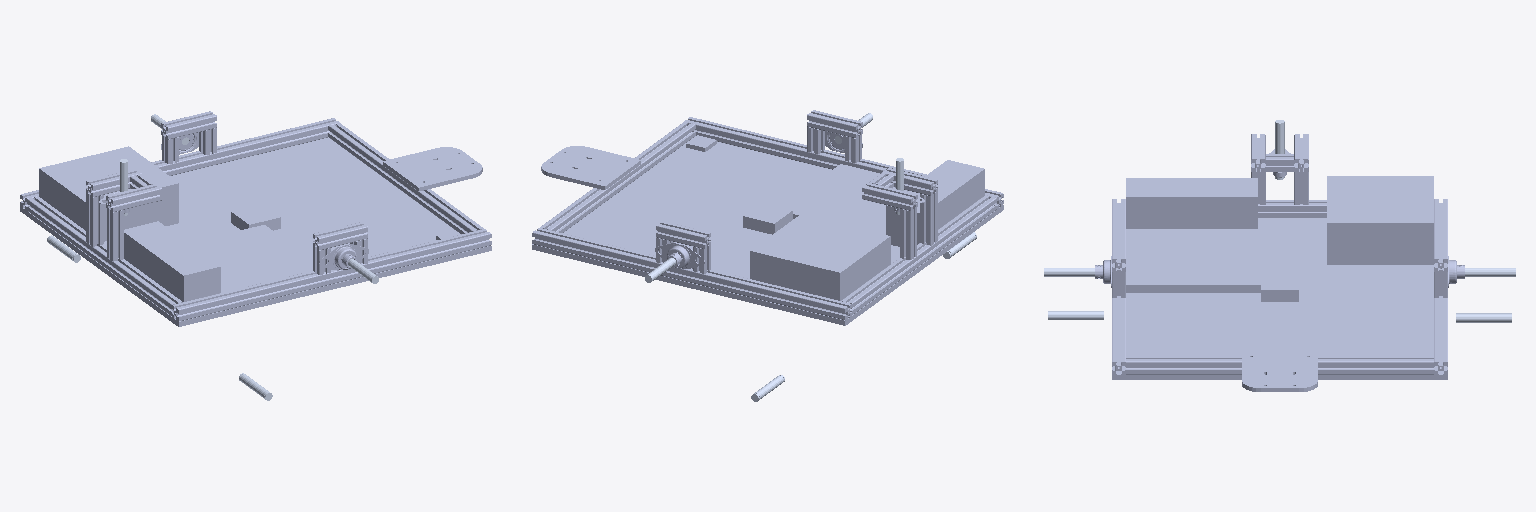
robot.urdf — UpdatedMiniRover2:
<?xml version="1.0" encoding="utf-8"?>
<!-- This URDF was automatically created by SolidWorks to URDF Exporter! Originally created by Stephen Brawner (brawner@gmail.com) 
     Commit Version: 1.6.0-4-g7f85cfe  Build Version: 1.6.7995.38578
     For more information, please see http://wiki.ros.org/sw_urdf_exporter -->
<robot
  name="UpdatedMiniRover2">
  <link
    name="base_link">
    <inertial>
      <origin
        xyz="-0.052189 0.0067678 0.012927"
        rpy="0 0 0" />
      <mass
        value="2.9852" />
      <inertia
        ixx="0.014337"
        ixy="-1.1922E-08"
        ixz="7.3459E-09"
        iyy="0.019036"
        iyz="-4.2142E-09"
        izz="0.032935" />
    </inertial>
    <visual>
      <origin
        xyz="0 0 0"
        rpy="0 0 0" />
      <geometry>
        <mesh
          filename="package://UpdatedMiniRover2/meshes/base_link.STL" />
      </geometry>
      <material
        name="">
        <color
          rgba="0.79216 0.81961 0.93333 1" />
      </material>
    </visual>
    <collision>
      <origin
        xyz="0 0 0"
        rpy="0 0 0" />
      <geometry>
        <mesh
          filename="package://UpdatedMiniRover2/meshes/base_link.STL" />
      </geometry>
    </collision>
  </link>
  <link
    name="RockerL_Link">
    <inertial>
      <origin
        xyz="8.0491E-16 -0.035 3.6082E-16"
        rpy="0 0 0" />
      <mass
        value="0.013467" />
      <inertia
        ixx="5.5755E-06"
        ixy="1.9214E-21"
        ixz="4.4668E-24"
        iyy="1.5273E-07"
        iyz="-3.7068E-21"
        izz="5.5755E-06" />
    </inertial>
    <visual>
      <origin
        xyz="0 0 0"
        rpy="0 0 0" />
      <geometry>
        <mesh
          filename="package://UpdatedMiniRover2/meshes/RockerL_Link.STL" />
      </geometry>
      <material
        name="">
        <color
          rgba="0.86667 0.9098 1 1" />
      </material>
    </visual>
    <collision>
      <origin
        xyz="0 0 0"
        rpy="0 0 0" />
      <geometry>
        <mesh
          filename="package://UpdatedMiniRover2/meshes/RockerL_Link.STL" />
      </geometry>
    </collision>
  </link>
  <joint
    name="RockerL_joint"
    type="revolute">
    <origin
      xyz="0.011312 -0.175 0.03"
      rpy="0 0 0" />
    <parent
      link="base_link" />
    <child
      link="RockerL_Link" />
    <axis
      xyz="0 -1 0" />
    <limit
      lower="0"
      upper="0"
      effort="0"
      velocity="0" />
  </joint>
  <link
    name="WFL_Link">
    <inertial>
      <origin
        xyz="-0.00030469 -0.0076992 9.7097E-05"
        rpy="0 0 0" />
      <mass
        value="0.33748" />
      <inertia
        ixx="0.00036362"
        ixy="-3.7017E-08"
        ixz="5.5251E-08"
        iyy="0.00062163"
        iyz="-1.0625E-07"
        izz="0.00036387" />
    </inertial>
    <visual>
      <origin
        xyz="0 0 0"
        rpy="0 0 0" />
      <geometry>
        <mesh
          filename="package://UpdatedMiniRover2/meshes/WFL_Link.STL" />
      </geometry>
      <material
        name="">
        <color
          rgba="0.75294 0.75294 0.75294 1" />
      </material>
    </visual>
    <collision>
      <origin
        xyz="0 0 0"
        rpy="0 0 0" />
      <geometry>
        <mesh
          filename="package://UpdatedMiniRover2/meshes/WFL_Link.STL" />
      </geometry>
    </collision>
  </link>
  <joint
    name="WFL_joint"
    type="continuous">
    <origin
      xyz="0.255 -0.071514 -0.19732"
      rpy="0 0 0" />
    <parent
      link="RockerL_Link" />
    <child
      link="WFL_Link" />
    <axis
      xyz="0 1 0" />
  </joint>
  <link
    name="BogieL_Link">
    <inertial>
      <origin
        xyz="0 -0.029525 -1.3878E-17"
        rpy="0 0 0" />
      <mass
        value="0.011327" />
      <inertia
        ixx="3.3403E-06"
        ixy="4.7535E-22"
        ixz="1.5966E-23"
        iyy="1.2812E-07"
        iyz="-8.5513E-22"
        izz="3.3403E-06" />
    </inertial>
    <visual>
      <origin
        xyz="0 0 0"
        rpy="0 0 0" />
      <geometry>
        <mesh
          filename="package://UpdatedMiniRover2/meshes/BogieL_Link.STL" />
      </geometry>
      <material
        name="">
        <color
          rgba="0.86667 0.9098 1 1" />
      </material>
    </visual>
    <collision>
      <origin
        xyz="0 0 0"
        rpy="0 0 0" />
      <geometry>
        <mesh
          filename="package://UpdatedMiniRover2/meshes/BogieL_Link.STL" />
      </geometry>
    </collision>
  </link>
  <joint
    name="BogieL_joint"
    type="revolute">
    <origin
      xyz="-0.13419 -0.007669 -0.11241"
      rpy="0 0 0" />
    <parent
      link="RockerL_Link" />
    <child
      link="BogieL_Link" />
    <axis
      xyz="0 -1 0" />
    <limit
      lower="0"
      upper="0"
      effort="0"
      velocity="0" />
  </joint>
  <link
    name="WML_Link">
    <inertial>
      <origin
        xyz="-0.000263057971062963 -0.00769918748460646 0.000188444317564401"
        rpy="0 0 0" />
      <mass
        value="0.33748168721985" />
      <inertia
        ixx="0.000363677647586356"
        ixy="6.67990896952481E-08"
        ixz="1.14854473653684E-07"
        iyy="0.000621631626714055"
        iyz="9.05417702952652E-08"
        izz="0.000363814398215361" />
    </inertial>
    <visual>
      <origin
        xyz="0 0 0"
        rpy="0 0 0" />
      <geometry>
        <mesh
          filename="package://UpdatedMiniRover2/meshes/WML_Link.STL" />
      </geometry>
      <material
        name="">
        <color
          rgba="0.752941176470588 0.752941176470588 0.752941176470588 1" />
      </material>
    </visual>
    <collision>
      <origin
        xyz="0 0 0"
        rpy="0 0 0" />
      <geometry>
        <mesh
          filename="package://UpdatedMiniRover2/meshes/WML_Link.STL" />
      </geometry>
    </collision>
  </link>
  <joint
    name="WML_joint"
    type="continuous">
    <origin
      xyz="0.12452 -0.063845 -0.086756"
      rpy="0 0 0" />
    <parent
      link="BogieL_Link" />
    <child
      link="WML_Link" />
    <axis
      xyz="0 1 0" />
  </joint>
  <link
    name="WBL_Link">
    <inertial>
      <origin
        xyz="-0.00030005 -0.0076992 0.00011063"
        rpy="0 0 0" />
      <mass
        value="0.33748" />
      <inertia
        ixx="0.00036363"
        ixy="-4.1733E-08"
        ixz="6.604E-08"
        iyy="0.00062163"
        iyz="-1.0449E-07"
        izz="0.00036386" />
    </inertial>
    <visual>
      <origin
        xyz="0 0 0"
        rpy="0 0 0" />
      <geometry>
        <mesh
          filename="package://UpdatedMiniRover2/meshes/WBL_Link.STL" />
      </geometry>
      <material
        name="">
        <color
          rgba="0.75294 0.75294 0.75294 1" />
      </material>
    </visual>
    <collision>
      <origin
        xyz="0 0 0"
        rpy="0 0 0" />
      <geometry>
        <mesh
          filename="package://UpdatedMiniRover2/meshes/WBL_Link.STL" />
      </geometry>
    </collision>
  </link>
  <joint
    name="WBL_joint"
    type="continuous">
    <origin
      xyz="-0.13481 -0.063845 -0.068524"
      rpy="0 0 0" />
    <parent
      link="BogieL_Link" />
    <child
      link="WBL_Link" />
    <axis
      xyz="0 1 0" />
  </joint>
  <link
    name="RockerR_Link">
    <inertial>
      <origin
        xyz="-2.7756E-17 0.035 2.0817E-17"
        rpy="0 0 0" />
      <mass
        value="0.013467" />
      <inertia
        ixx="5.5755E-06"
        ixy="2.4389E-21"
        ixz="1.2098E-24"
        iyy="1.5273E-07"
        iyz="-3.2826E-21"
        izz="5.5755E-06" />
    </inertial>
    <visual>
      <origin
        xyz="0 0 0"
        rpy="0 0 0" />
      <geometry>
        <mesh
          filename="package://UpdatedMiniRover2/meshes/RockerR_Link.STL" />
      </geometry>
      <material
        name="">
        <color
          rgba="0.86667 0.9098 1 1" />
      </material>
    </visual>
    <collision>
      <origin
        xyz="0 0 0"
        rpy="0 0 0" />
      <geometry>
        <mesh
          filename="package://UpdatedMiniRover2/meshes/RockerR_Link.STL" />
      </geometry>
    </collision>
  </link>
  <joint
    name="RockerR_joint"
    type="revolute">
    <origin
      xyz="0.011312 0.175 0.03"
      rpy="0 0 0" />
    <parent
      link="base_link" />
    <child
      link="RockerR_Link" />
    <axis
      xyz="0 1 0" />
    <limit
      lower="0"
      upper="0"
      effort="0"
      velocity="0" />
  </joint>
  <link
    name="WFR_Link">
    <inertial>
      <origin
        xyz="-0.000253671161038277 0.00769918748460585 0.000200902212580817"
        rpy="0 0 0" />
      <mass
        value="0.337481687219786" />
      <inertia
        ixx="0.000363743120576253"
        ixy="6.86139099319741E-08"
        ixz="1.33634988904462E-07"
        iyy="0.000621631626714009"
        iyz="8.91743343913024E-08"
        izz="0.000363748925225399" />
    </inertial>
    <visual>
      <origin
        xyz="0 0 0"
        rpy="0 0 0" />
      <geometry>
        <mesh
          filename="package://UpdatedMiniRover2/meshes/WFR_Link.STL" />
      </geometry>
      <material
        name="">
        <color
          rgba="0.752941176470588 0.752941176470588 0.752941176470588 1" />
      </material>
    </visual>
    <collision>
      <origin
        xyz="0 0 0"
        rpy="0 0 0" />
      <geometry>
        <mesh
          filename="package://UpdatedMiniRover2/meshes/WFR_Link.STL" />
      </geometry>
    </collision>
  </link>
  <joint
    name="WFR_joint"
    type="continuous">
    <origin
      xyz="0.2594 0.071514 -0.19154"
      rpy="0 0 0" />
    <parent
      link="RockerR_Link" />
    <child
      link="WFR_Link" />
    <axis
      xyz="0 -1 0" />
  </joint>
  <link
    name="BogieR_Link">
    <inertial>
      <origin
        xyz="0 0.029525 1.3878E-17"
        rpy="0 0 0" />
      <mass
        value="0.011327" />
      <inertia
        ixx="3.3403E-06"
        ixy="3.9948E-22"
        ixz="5.7125E-24"
        iyy="1.2812E-07"
        iyz="-1.5993E-21"
        izz="3.3403E-06" />
    </inertial>
    <visual>
      <origin
        xyz="0 0 0"
        rpy="0 0 0" />
      <geometry>
        <mesh
          filename="package://UpdatedMiniRover2/meshes/BogieR_Link.STL" />
      </geometry>
      <material
        name="">
        <color
          rgba="0.86667 0.9098 1 1" />
      </material>
    </visual>
    <collision>
      <origin
        xyz="0 0 0"
        rpy="0 0 0" />
      <geometry>
        <mesh
          filename="package://UpdatedMiniRover2/meshes/BogieR_Link.STL" />
      </geometry>
    </collision>
  </link>
  <joint
    name="BogieR_joint"
    type="revolute">
    <origin
      xyz="-0.13422 0.007669 -0.11529"
      rpy="0 0 0" />
    <parent
      link="RockerR_Link" />
    <child
      link="BogieR_Link" />
    <axis
      xyz="0 1 0" />
    <limit
      lower="0"
      upper="0"
      effort="0"
      velocity="0" />
  </joint>
  <link
    name="WMR_Link">
    <inertial>
      <origin
        xyz="0.00022398 0.0076992 0.00022826"
        rpy="0 0 0" />
      <mass
        value="0.33748" />
      <inertia
        ixx="0.00036372"
        ixy="-8.2389E-08"
        ixz="-1.3185E-07"
        iyy="0.00062163"
        iyz="7.6629E-08"
        izz="0.00036377" />
    </inertial>
    <visual>
      <origin
        xyz="0 0 0"
        rpy="0 0 0" />
      <geometry>
        <mesh
          filename="package://UpdatedMiniRover2/meshes/WMR_Link.STL" />
      </geometry>
      <material
        name="">
        <color
          rgba="0.75294 0.75294 0.75294 1" />
      </material>
    </visual>
    <collision>
      <origin
        xyz="0 0 0"
        rpy="0 0 0" />
      <geometry>
        <mesh
          filename="package://UpdatedMiniRover2/meshes/WMR_Link.STL" />
      </geometry>
    </collision>
  </link>
  <joint
    name="WMR_joint"
    type="continuous">
    <origin
      xyz="0.12416 0.063845 -0.086625"
      rpy="0 0 0" />
    <parent
      link="BogieR_Link" />
    <child
      link="WMR_Link" />
    <axis
      xyz="0 -1 0" />
  </joint>
  <link
    name="WBR_Link">
    <inertial>
      <origin
        xyz="-0.00021509 0.0076992 -0.00024176"
        rpy="0 0 0" />
      <mass
        value="0.33748" />
      <inertia
        ixx="0.00036373"
        ixy="-8.5103E-08"
        ixz="-1.3309E-07"
        iyy="0.00062163"
        iyz="7.3603E-08"
        izz="0.00036376" />
    </inertial>
    <visual>
      <origin
        xyz="0 0 0"
        rpy="0 0 0" />
      <geometry>
        <mesh
          filename="package://UpdatedMiniRover2/meshes/WBR_Link.STL" />
      </geometry>
      <material
        name="">
        <color
          rgba="0.75294 0.75294 0.75294 1" />
      </material>
    </visual>
    <collision>
      <origin
        xyz="0 0 0"
        rpy="0 0 0" />
      <geometry>
        <mesh
          filename="package://UpdatedMiniRover2/meshes/WBR_Link.STL" />
      </geometry>
    </collision>
  </link>
  <joint
    name="WBR_joint"
    type="continuous">
    <origin
      xyz="-0.1348 0.063845 -0.068362"
      rpy="0 0 0" />
    <parent
      link="BogieR_Link" />
    <child
      link="WBR_Link" />
    <axis
      xyz="0 -1 0" />
  </joint>
  <link
    name="Differential_Link">
    <inertial>
      <origin
        xyz="1.1102E-16 -1.1102E-16 0.0325"
        rpy="0 0 0" />
      <mass
        value="0.012505" />
      <inertia
        ixx="4.4738E-06"
        ixy="-2.4195E-24"
        ixz="-3.9201E-23"
        iyy="4.4738E-06"
        iyz="-1.7434E-25"
        izz="1.4182E-07" />
    </inertial>
    <visual>
      <origin
        xyz="0 0 0"
        rpy="0 0 0" />
      <geometry>
        <mesh
          filename="package://UpdatedMiniRover2/meshes/Differential_Link.STL" />
      </geometry>
      <material
        name="">
        <color
          rgba="0.86667 0.9098 1 1" />
      </material>
    </visual>
    <collision>
      <origin
        xyz="0 0 0"
        rpy="0 0 0" />
      <geometry>
        <mesh
          filename="package://UpdatedMiniRover2/meshes/Differential_Link.STL" />
      </geometry>
    </collision>
  </link>
  <joint
    name="Differential_joint"
    type="revolute">
    <origin
      xyz="-0.16869 0 0.053808"
      rpy="0 0 0" />
    <parent
      link="base_link" />
    <child
      link="Differential_Link" />
    <axis
      xyz="0 0 1" />
    <limit
      lower="0"
      upper="0"
      effort="0"
      velocity="0" />
  </joint>
  <link
    name="LiDAR_Link">
    <inertial>
      <origin
        xyz="-0.00049661 -5.3822E-08 -0.027695"
        rpy="0 0 0" />
      <mass
        value="0.18287" />
      <inertia
        ixx="9.7142E-05"
        ixy="3.0472E-10"
        ixz="6.6252E-07"
        iyy="9.5789E-05"
        iyz="3.1638E-11"
        izz="8.5473E-05" />
    </inertial>
    <visual>
      <origin
        xyz="0 0 0"
        rpy="0 0 0" />
      <geometry>
        <mesh
          filename="package://UpdatedMiniRover2/meshes/LiDAR_Link.STL" />
      </geometry>
      <material
        name="">
        <color
          rgba="1 1 1 0.35" />
      </material>
    </visual>
    <collision>
      <origin
        xyz="0 0 0"
        rpy="0 0 0" />
      <geometry>
        <mesh
          filename="package://UpdatedMiniRover2/meshes/LiDAR_Link.STL" />
      </geometry>
    </collision>
  </link>
  <joint
    name="LiDAR_joint"
    type="fixed">
    <origin
      xyz="0.253 0 0.08166"
      rpy="0 0 0" />
    <parent
      link="base_link" />
    <child
      link="LiDAR_Link" />
    <axis
      xyz="0 0 0" />
  </joint>
  <link
    name="IMU_Link">
    <inertial>
      <origin
        xyz="-2.7756E-17 -1.1102E-16 -0.007"
        rpy="0 0 0" />
      <mass
        value="0.0224" />
      <inertia
        ixx="3.3525E-06"
        ixy="6.4296E-23"
        ixz="-4.5478E-21"
        iyy="3.3525E-06"
        iyz="8.3848E-22"
        izz="5.9733E-06" />
    </inertial>
    <visual>
      <origin
        xyz="0 0 0"
        rpy="0 0 0" />
      <geometry>
        <mesh
          filename="package://UpdatedMiniRover2/meshes/IMU_Link.STL" />
      </geometry>
      <material
        name="">
        <color
          rgba="0.79216 0.81961 0.93333 1" />
      </material>
    </visual>
    <collision>
      <origin
        xyz="0 0 0"
        rpy="0 0 0" />
      <geometry>
        <mesh
          filename="package://UpdatedMiniRover2/meshes/IMU_Link.STL" />
      </geometry>
    </collision>
  </link>
  <joint
    name="IMU_joint"
    type="fixed">
    <origin
      xyz="0 0 0.014"
      rpy="0 0 0" />
    <parent
      link="base_link" />
    <child
      link="IMU_Link" />
    <axis
      xyz="0 0 0" />
  </joint>
  <link
    name="GPS1_Link">
    <inertial>
      <origin
        xyz="1.8457E-15 0 -0.019545"
        rpy="0 0 0" />
      <mass
        value="0.10424" />
      <inertia
        ixx="3.3117E-05"
        ixy="-8.7805E-20"
        ixz="1.0578E-20"
        iyy="6.8334E-05"
        iyz="-3.6186E-20"
        izz="9.0122E-05" />
    </inertial>
    <visual>
      <origin
        xyz="0 0 0"
        rpy="0 0 0" />
      <geometry>
        <mesh
          filename="package://UpdatedMiniRover2/meshes/GPS1_Link.STL" />
      </geometry>
      <material
        name="">
        <color
          rgba="0.79216 0.81961 0.93333 1" />
      </material>
    </visual>
    <collision>
      <origin
        xyz="0 0 0"
        rpy="0 0 0" />
      <geometry>
        <mesh
          filename="package://UpdatedMiniRover2/meshes/GPS1_Link.STL" />
      </geometry>
    </collision>
  </link>
  <joint
    name="GPS1_joint"
    type="fixed">
    <origin
      xyz="0.1285 0.13 0.03"
      rpy="0 0 0" />
    <parent
      link="base_link" />
    <child
      link="GPS1_Link" />
    <axis
      xyz="0 0 0" />
  </joint>
  <link
    name="GPS2_Link">
    <inertial>
      <origin
        xyz="1.3878E-17 -2.2204E-16 -0.0025"
        rpy="0 0 0" />
      <mass
        value="0.003125" />
      <inertia
        ixx="1.6927E-07"
        ixy="-1.5034E-22"
        ixz="-1.0595E-22"
        iyy="1.6927E-07"
        iyz="-3.5742E-23"
        izz="3.2552E-07" />
    </inertial>
    <visual>
      <origin
        xyz="0 0 0"
        rpy="0 0 0" />
      <geometry>
        <mesh
          filename="package://UpdatedMiniRover2/meshes/GPS2_Link.STL" />
      </geometry>
      <material
        name="">
        <color
          rgba="0.79216 0.81961 0.93333 1" />
      </material>
    </visual>
    <collision>
      <origin
        xyz="0 0 0"
        rpy="0 0 0" />
      <geometry>
        <mesh
          filename="package://UpdatedMiniRover2/meshes/GPS2_Link.STL" />
      </geometry>
    </collision>
  </link>
  <joint
    name="GPS2_joint"
    type="fixed">
    <origin
      xyz="0.1675 -0.1425 0.005"
      rpy="0 0 0" />
    <parent
      link="base_link" />
    <child
      link="GPS2_Link" />
    <axis
      xyz="0 0 0" />
  </joint>
</robot>

--- Facts derived from the render (not from the file) ---
Views: 3 orthographic renders of the robot side by side, from view 1: azimuth 30°, elevation 25°; view 2: azimuth 150°, elevation 25°; view 3: azimuth 270°, elevation 25°.
Model UpdatedMiniRover2 with 16 links and 15 joints (5 revolute, 6 continuous, 4 fixed), rooted at base_link, posed every joint at zero.
Links seen in each view (by area): view 1: base_link, IMU_Link; view 2: base_link, IMU_Link; view 3: base_link, IMU_Link, BogieR_Link.
Link boxes in pixels (<box>): base_link: <box>20,111,491,326</box>; IMU_Link: <box>231,204,280,230</box>; base_link: <box>532,110,1003,325</box>; IMU_Link: <box>743,203,792,234</box>; base_link: <box>1095,134,1464,391</box>; IMU_Link: <box>1261,273,1298,301</box>; BogieR_Link: <box>1456,313,1511,322</box>.
Bounding box of the posed robot: 0.4754 × 0.49 × 0.2088 m (x, y, z).
Meshes: 16 distinct files referenced, 8 mesh visuals loaded (8 binary STL); not drawn: 2 (reference not matched to a file when rendering), 6 (file found but could not be loaded).
